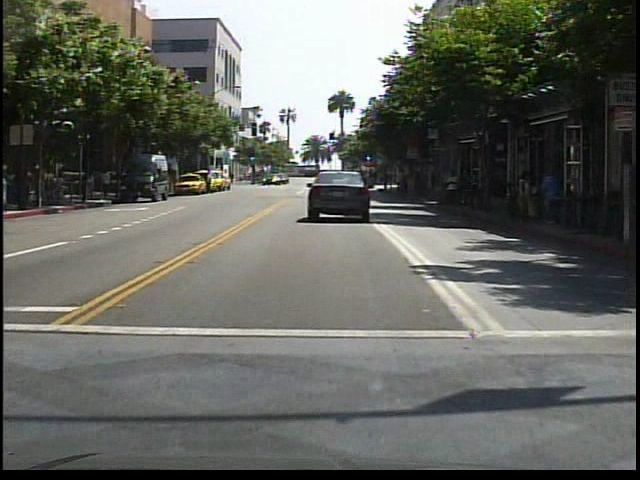person: (443, 169, 464, 211)
